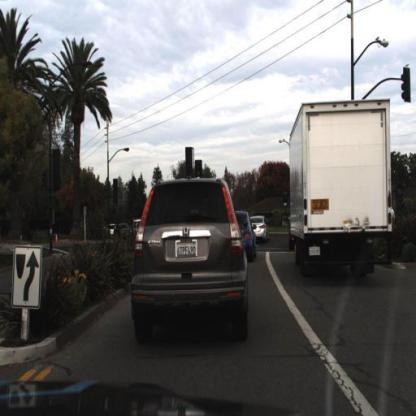car: (127, 174, 253, 350), (233, 208, 261, 268), (236, 209, 259, 265), (248, 208, 271, 247), (250, 215, 271, 243), (105, 223, 120, 237)
truck: (291, 94, 394, 277)
